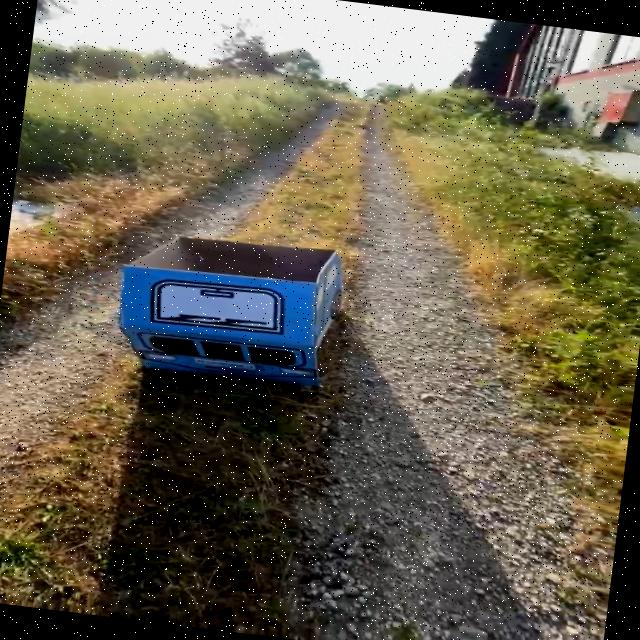blue_car: (67, 191, 432, 443)
